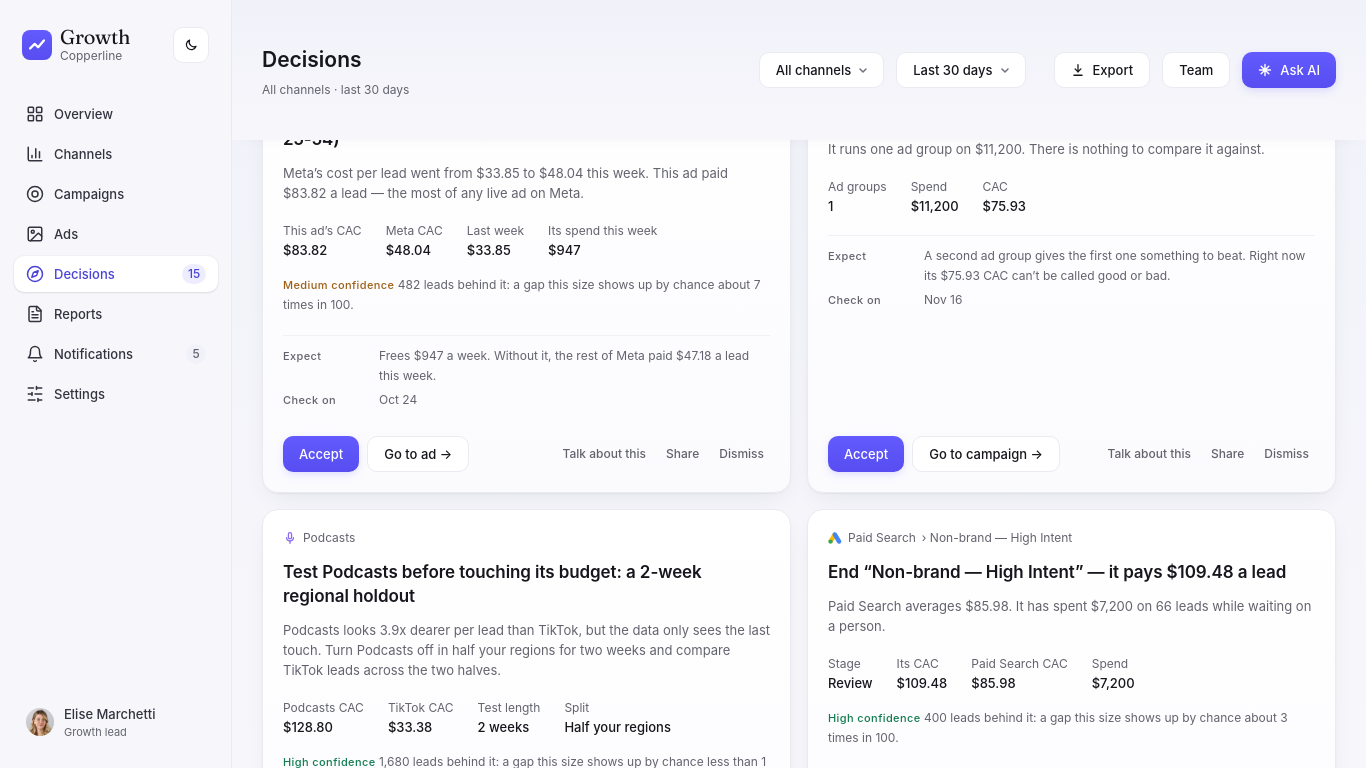
Test case: "Go to" lands on the decided item › an ad decision opens that ad, with its ad set and campaign behind it
(page scrolled)
Click the button "Go to ad →": (418, 454) top-left (367, 436), bottom-right (469, 472)
(page scrolled)
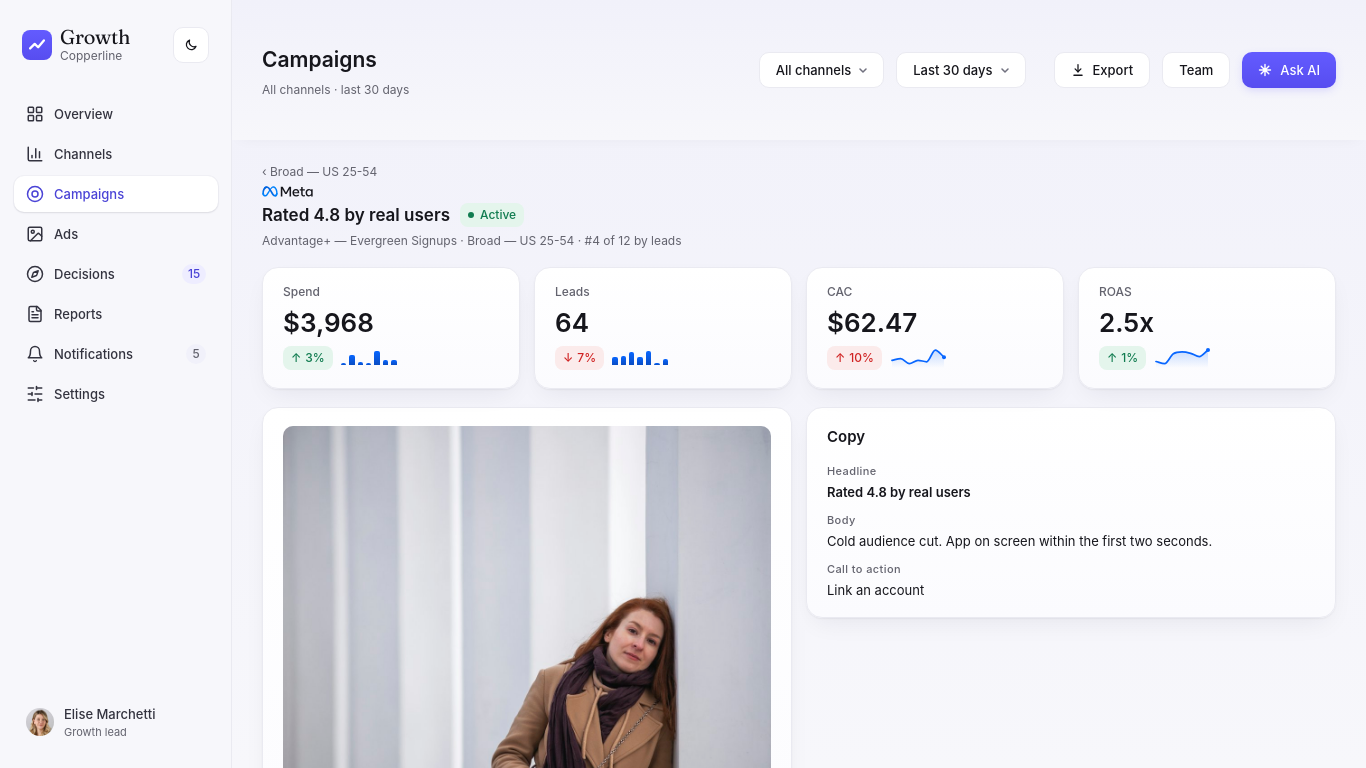
expect the text "Rated 4.8 by real users" is shown: met, box top-left (262, 203), bottom-right (450, 227)
expect the element with class "gr-dec__card" is gone: met
expect the button with class "gr-crumb" shows "Broad — US 25-54": met, box top-left (262, 164), bottom-right (1336, 180)
